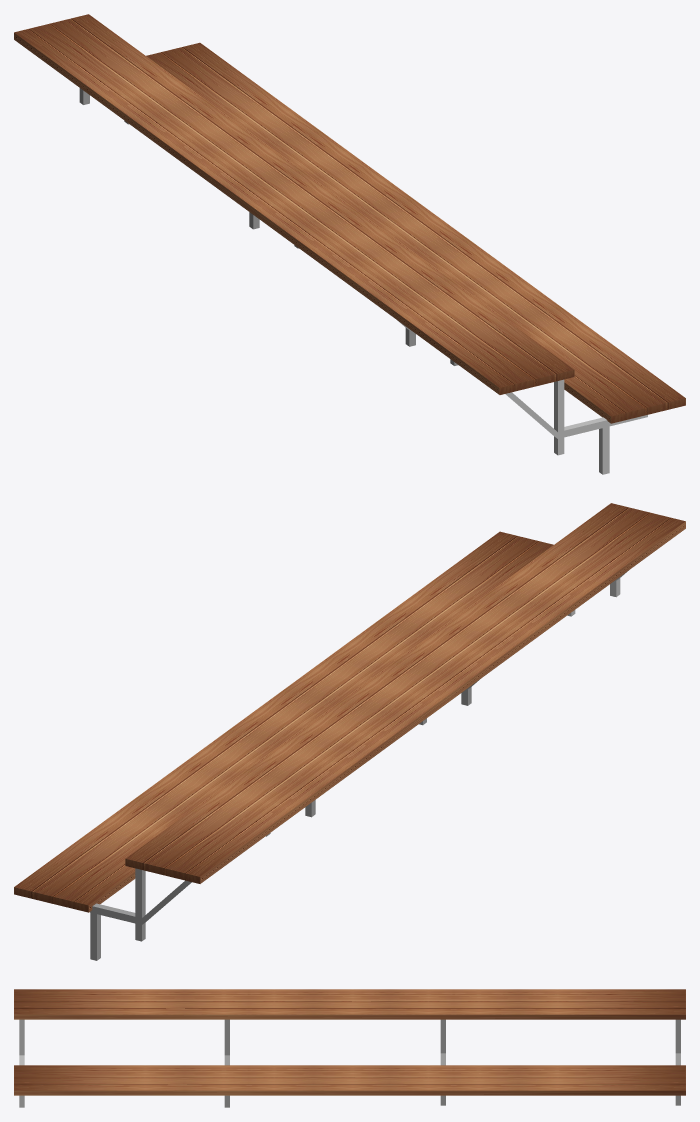
Rendered from Table_Chair.fbx.
3 views of the same model, one above another, from view 1: azimuth 30°, elevation 25°; view 2: azimuth 150°, elevation 25°; view 3: azimuth 270°, elevation 25° (orthographic). The views are drawn at different scales.
Parts seen in each view (by area): view 1: pCube66, pCube67, pCube53; view 2: pCube66, pCube67, pCube58; view 3: pCube66, pCube67, pCube53, pCube56, pCube57, pCube58.
Part boxes in pixels (x1,y1,x2,y2): pCube66: (14, 14, 574, 394); pCube67: (146, 42, 685, 423); pCube53: (505, 379, 647, 474); pCube66: (125, 503, 685, 883); pCube67: (14, 531, 553, 912); pCube58: (90, 868, 191, 960); pCube66: (14, 989, 685, 1019); pCube67: (14, 1065, 685, 1095); pCube53: (19, 1019, 24, 1107); pCube56: (224, 1019, 229, 1107); pCube57: (440, 1019, 445, 1105); pCube58: (675, 1019, 680, 1105).
Size of the model in its own units: 5.06 by 3.01 by 22.87.
